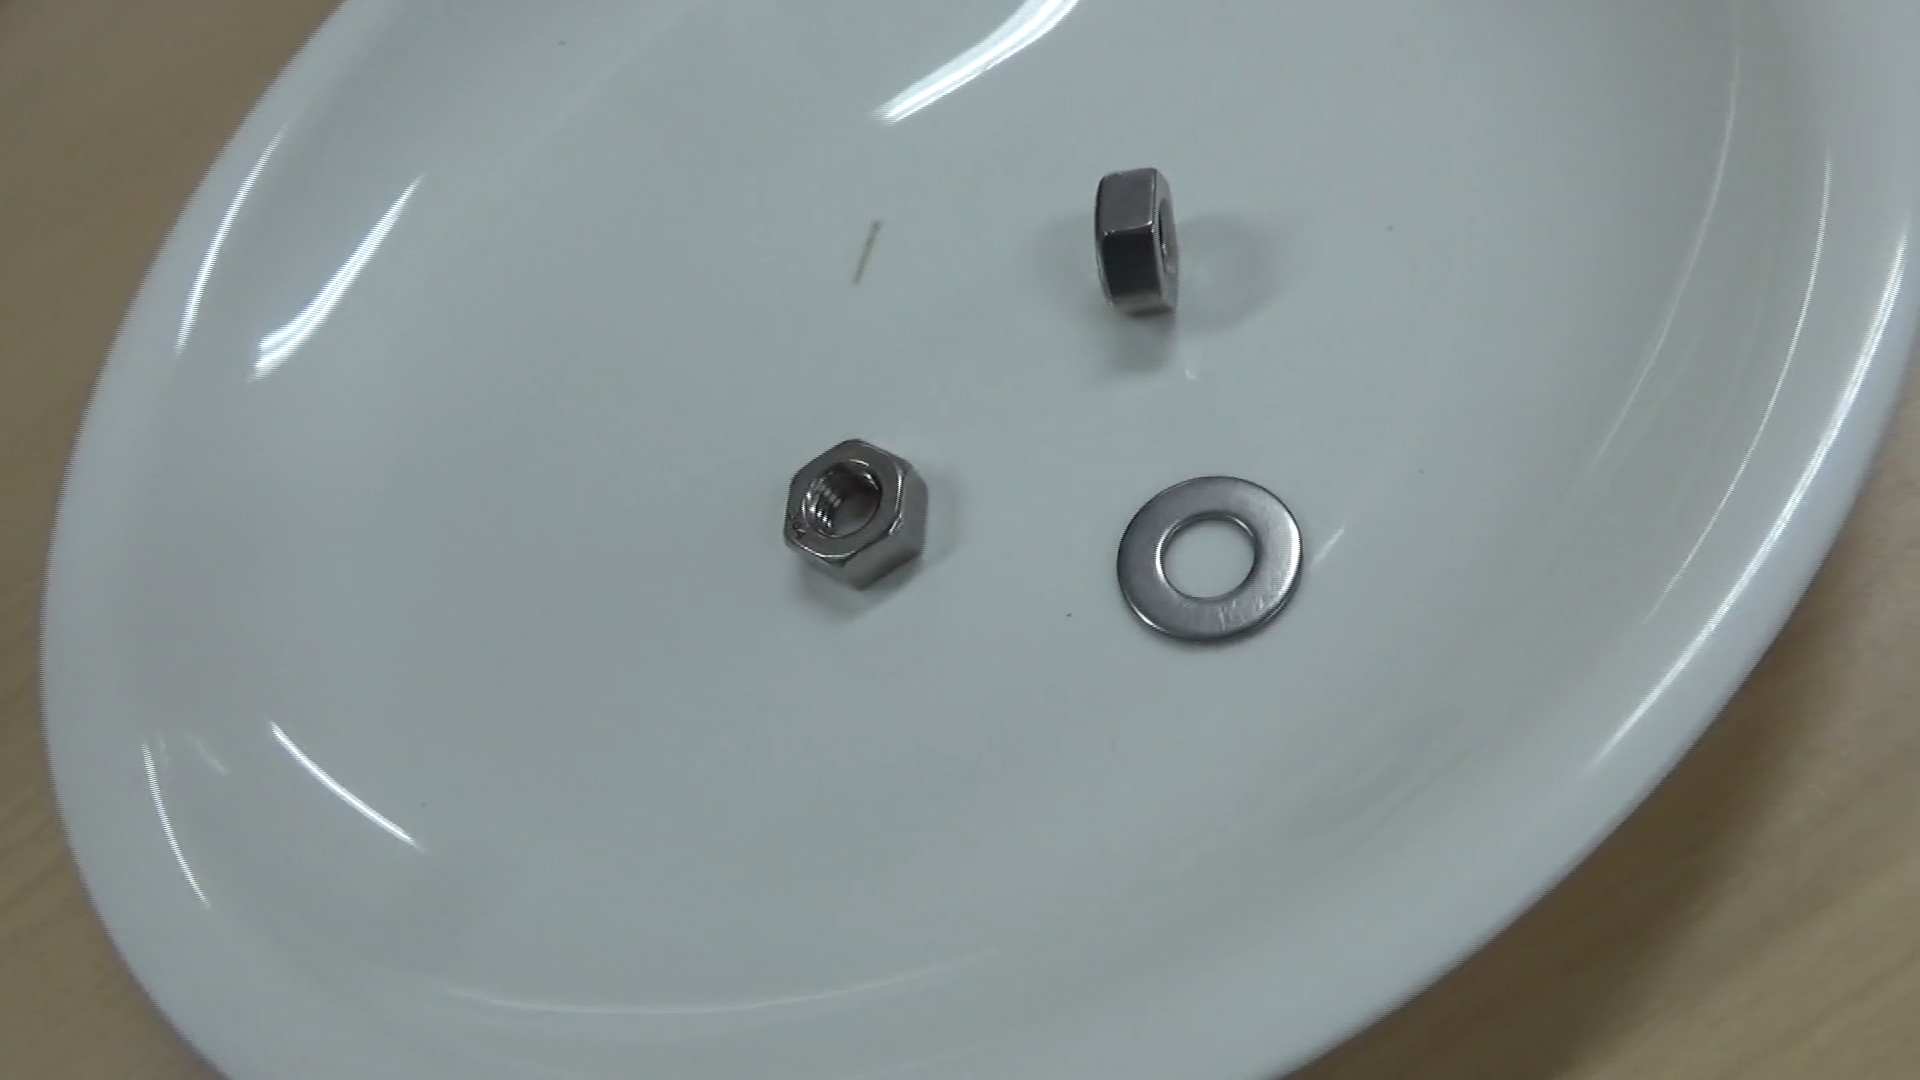nut: (777, 433, 935, 591), (1089, 164, 1182, 316)
washer: (1112, 471, 1305, 644)
